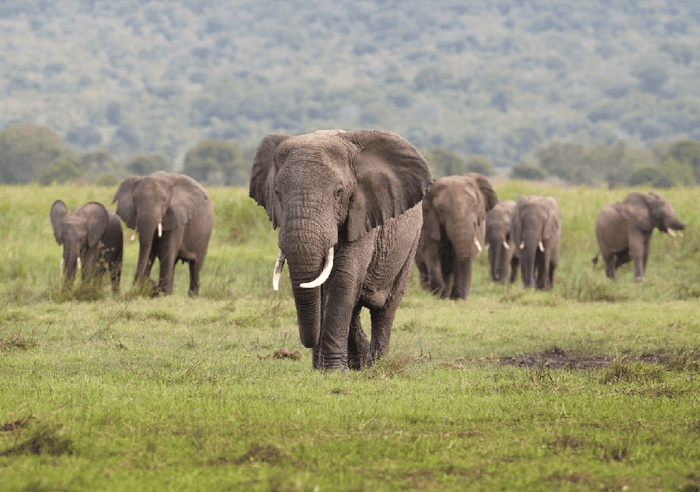elephant: (245, 126, 436, 380), (114, 172, 217, 299), (411, 170, 501, 306), (589, 185, 691, 291), (46, 195, 125, 300), (510, 190, 567, 305), (483, 195, 524, 289)
